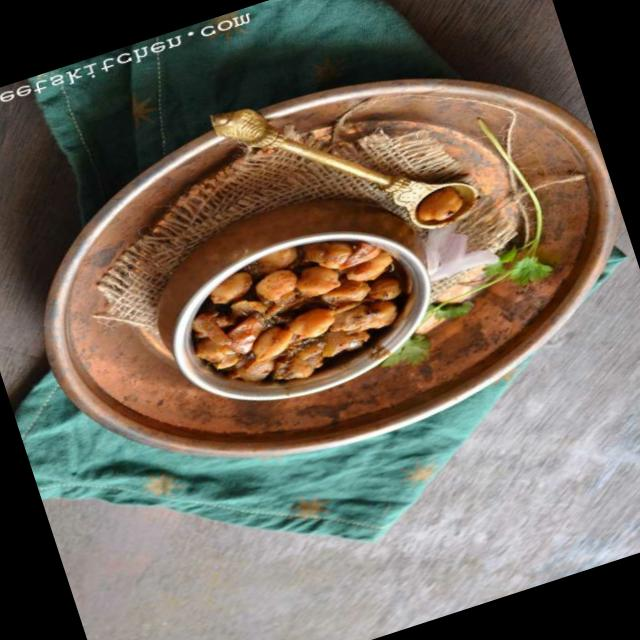Chole: (170, 218, 420, 412)
